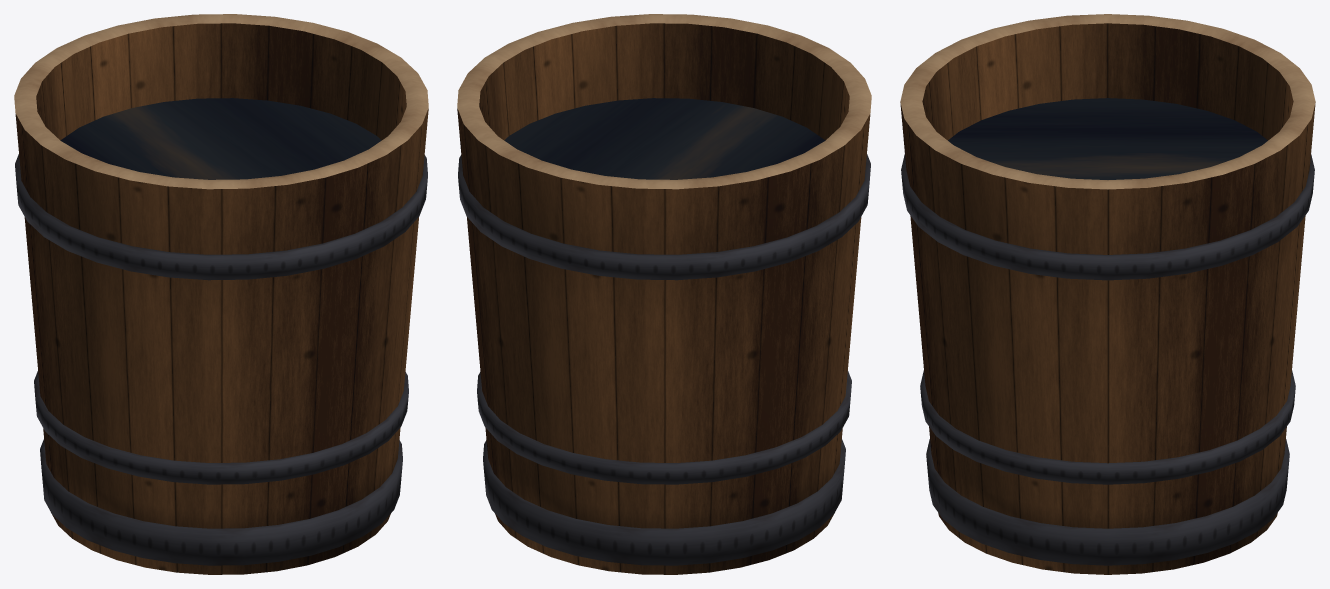
The model's file is mm6_deco_bucket.glb.
The picture shows the model from 3 angles, left to right: view 1: azimuth 30°, elevation 25°; view 2: azimuth 150°, elevation 25°; view 3: azimuth 270°, elevation 25°; orthographic projection.
Visible parts, largest first — view 1: Bucket; view 2: Bucket; view 3: Bucket.
Part boxes in pixels (<box>): Bucket: <box>14,14,428,574</box>; Bucket: <box>457,14,871,574</box>; Bucket: <box>900,14,1315,574</box>.
Bounding box in the file's own units: 0.7709 × 0.825 × 0.7709.
Materials: 4 (4 with a texture image).
